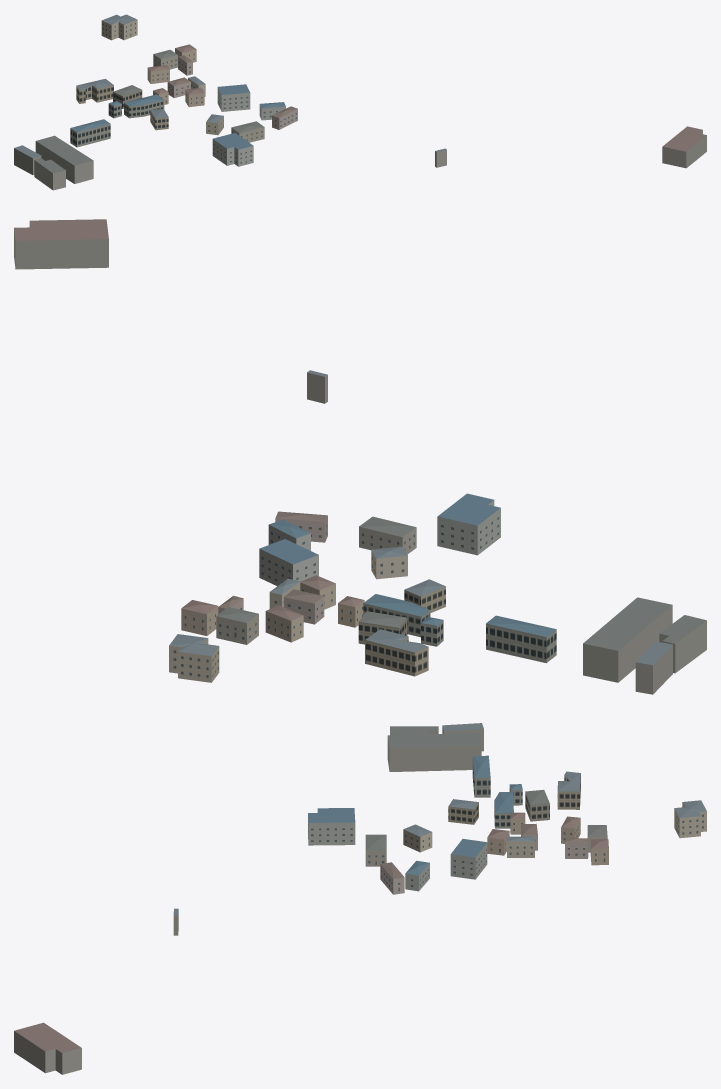
The picture shows the model from 3 angles, top to bottom: view 1: azimuth 30°, elevation 25°; view 2: azimuth 150°, elevation 25°; view 3: azimuth 270°, elevation 25°; orthographic projection. The views are drawn at different scales.
Parts seen in each view (by area): view 1: ctx-warehouse, near-house-wall-1, ctx-roof-3, ctx-roof-1, ctx-house-grey, ctx-roof-2, ctx-roof-0, near-house-wall-0, near-house-wall-2, near-house-wall-4, ctx-house-cream, near-house-window-pane (+2 smaller); view 2: ctx-warehouse, ctx-roof-3, ctx-roof-1, near-house-wall-1, ctx-house-grey, ctx-roof-2, ctx-roof-0, near-house-wall-2, near-house-wall-0, ctx-house-cream, near-house-wall-3, near-house-wall-4 (+2 smaller); view 3: ctx-warehouse, ctx-roof-3, near-house-wall-1, ctx-roof-1, ctx-roof-0, ctx-roof-2, near-house-wall-0, near-house-wall-2, ctx-house-cream, near-house-wall-4, ctx-house-grey, near-house-window-pane.
Boxes of the visible parts, x1,y1,x2,y2 form: ctx-warehouse: [14, 130, 706, 190]; near-house-wall-1: [212, 87, 285, 166]; ctx-roof-3: [35, 49, 263, 173]; ctx-roof-1: [70, 84, 285, 149]; ctx-house-grey: [70, 99, 164, 147]; ctx-roof-2: [148, 44, 706, 151]; ctx-roof-0: [14, 14, 446, 157]; near-house-wall-0: [101, 20, 223, 135]; near-house-wall-2: [147, 48, 204, 106]; near-house-wall-4: [167, 56, 297, 129]; ctx-house-cream: [76, 85, 168, 130]; near-house-window-pane: [102, 23, 296, 163]; ctx-warehouse: [14, 223, 706, 694]; ctx-roof-3: [216, 516, 706, 650]; ctx-roof-1: [259, 493, 556, 636]; near-house-wall-1: [259, 500, 500, 586]; ctx-house-grey: [363, 603, 556, 663]; ctx-roof-2: [14, 219, 364, 620]; ctx-roof-0: [169, 370, 672, 665]; near-house-wall-2: [181, 582, 364, 642]; near-house-wall-0: [169, 550, 407, 682]; ctx-house-cream: [365, 586, 445, 676]; near-house-wall-3: [216, 526, 416, 644]; near-house-wall-4: [218, 516, 327, 624]; ctx-warehouse: [14, 726, 483, 1074]; ctx-roof-3: [365, 726, 607, 850]; near-house-wall-1: [308, 809, 487, 891]; ctx-roof-1: [308, 755, 522, 875]; ctx-roof-0: [173, 723, 706, 915]; ctx-roof-2: [14, 812, 608, 1052]; near-house-wall-0: [403, 802, 706, 857]; near-house-wall-2: [487, 818, 608, 865]; ctx-house-cream: [448, 773, 580, 824]; near-house-wall-4: [380, 825, 588, 894]; ctx-house-grey: [472, 759, 522, 828]; near-house-window-pane: [308, 813, 703, 889].
Bounding box in the file's own units: 412 × 32.22 × 357.
Materials: 17 (3 with a texture image).
